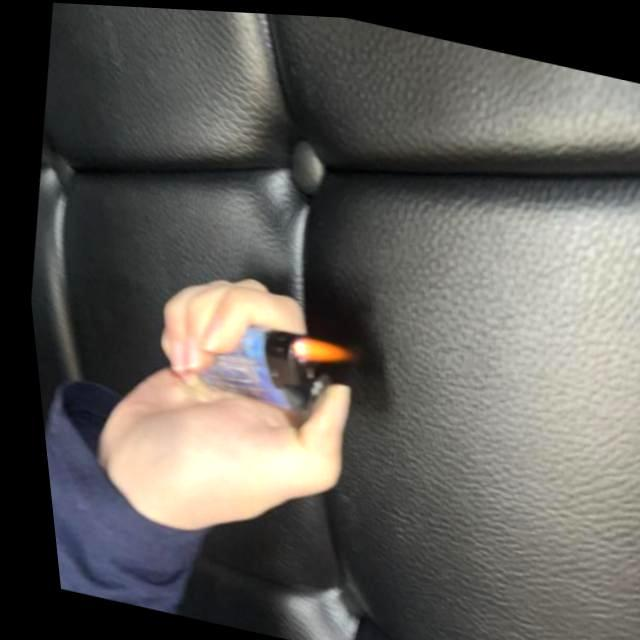fire: (280, 328, 348, 372)
